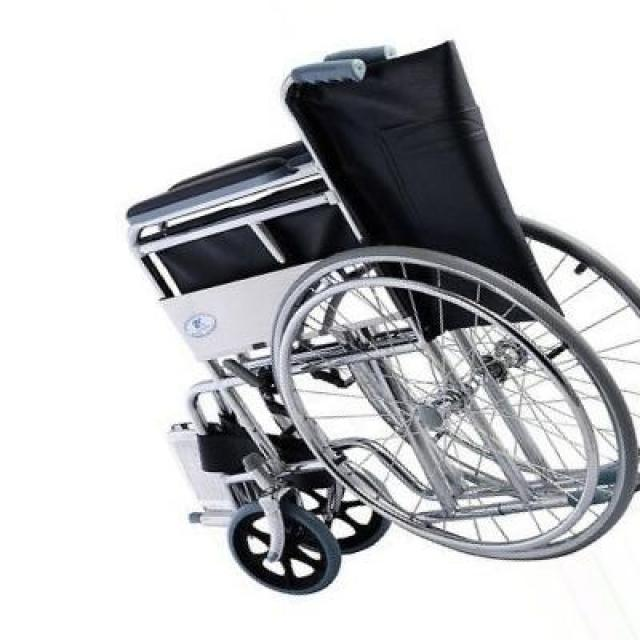wheelchair: (114, 27, 640, 606)
